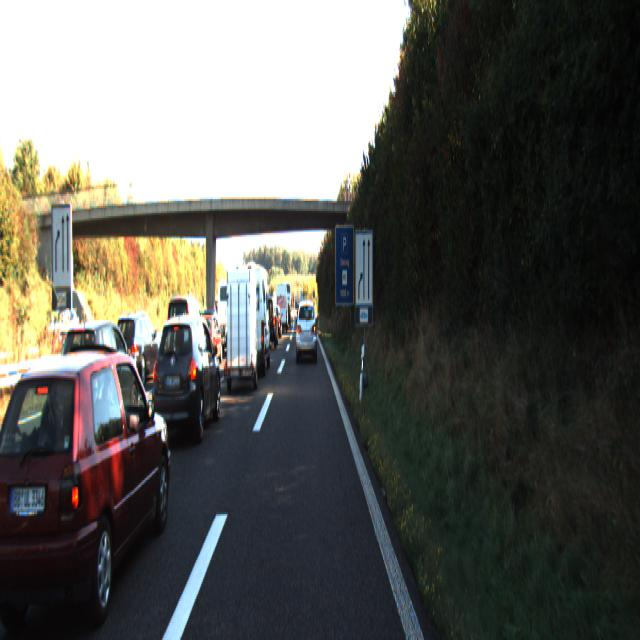Car: (0, 340, 177, 639), (55, 316, 143, 448), (151, 310, 222, 446), (221, 266, 260, 393), (234, 262, 271, 376), (166, 291, 210, 386), (112, 310, 163, 386), (196, 313, 223, 368), (296, 296, 317, 361), (258, 294, 278, 348), (275, 282, 288, 329)
